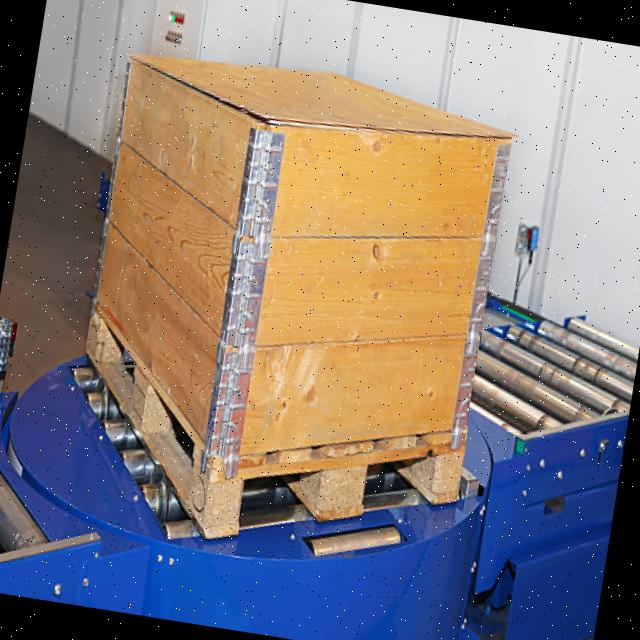Wooden-Pallets: (81, 307, 465, 543)
